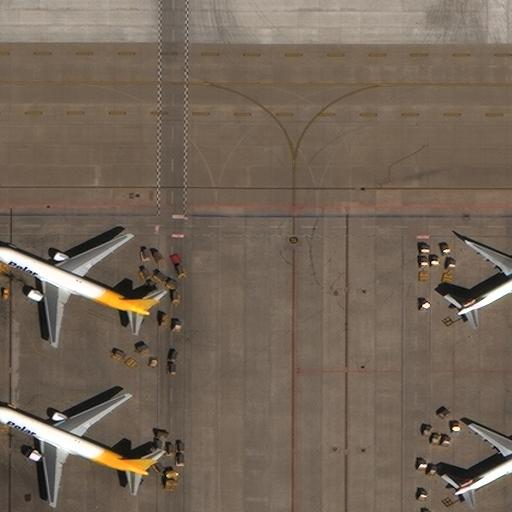Large Civil Transport: (0, 232, 150, 346), (0, 392, 148, 507), (455, 238, 511, 322), (454, 422, 511, 502)
